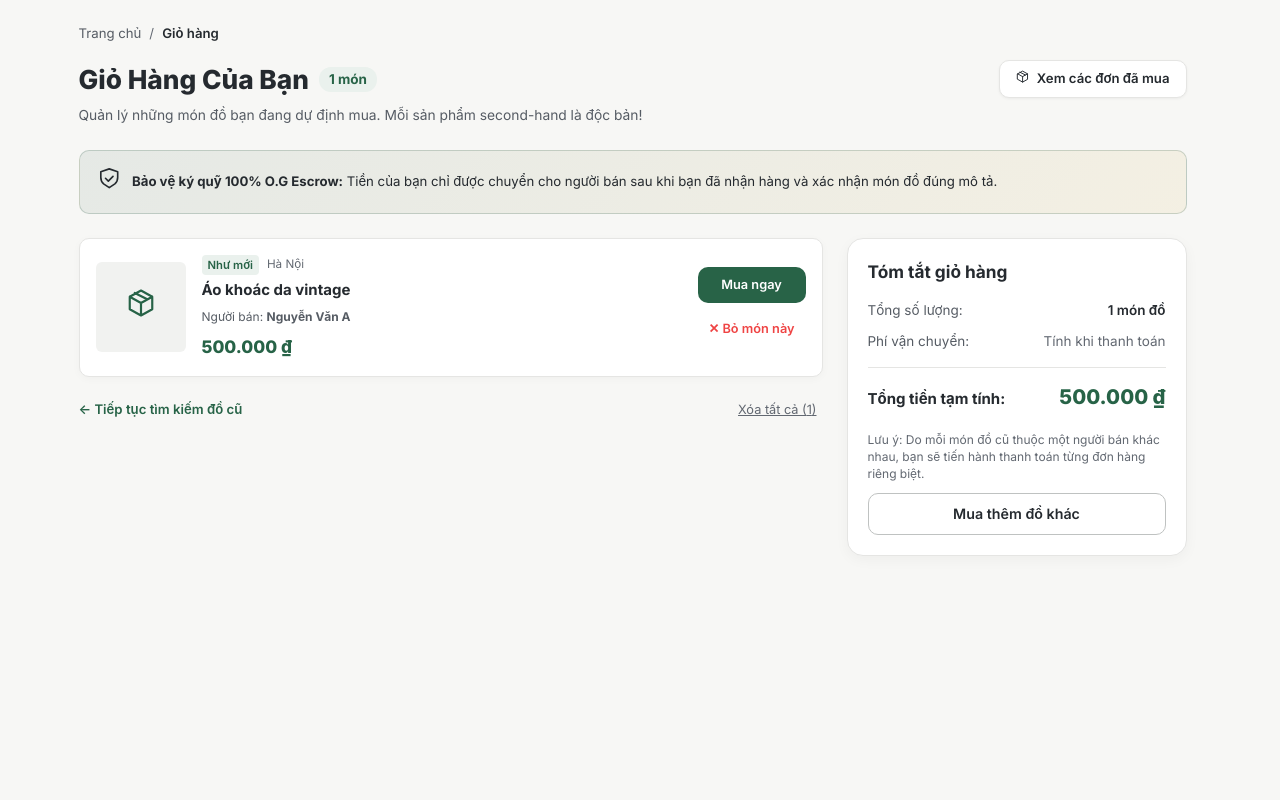
CartPage Component (Requirement 5) › renders cart items, calculates summary total, and allows removing items
The image size is (1280, 800).
Expected: the link "Áo khoác da vintage" is shown, [202, 280, 350, 300]
Expected: the text "Nguyễn Văn A" is shown, [266, 309, 351, 324]
Note: Click remove item
Click the button "✕ Bỏ món này" at (752, 329), box [698, 311, 806, 347]
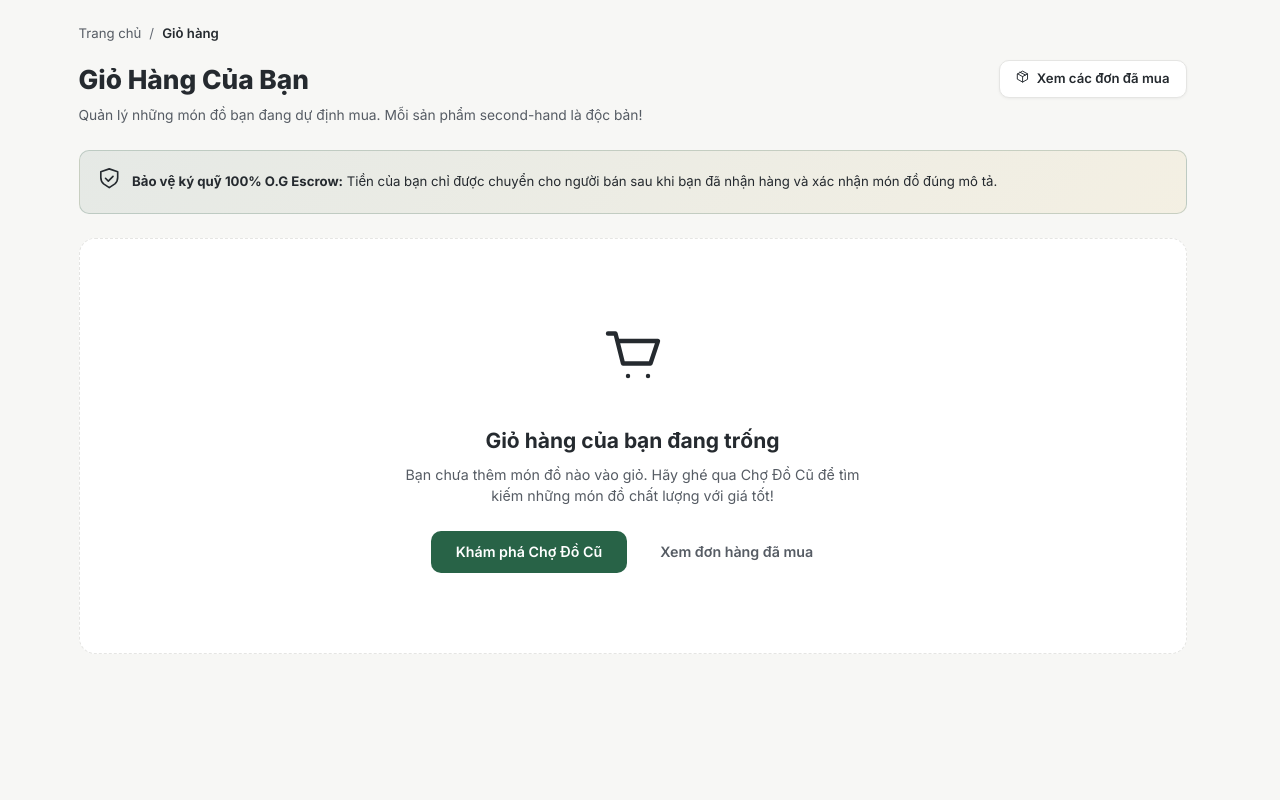
Expected: the heading "Giỏ hàng của bạn đang trống" is shown, [485, 428, 780, 453]
